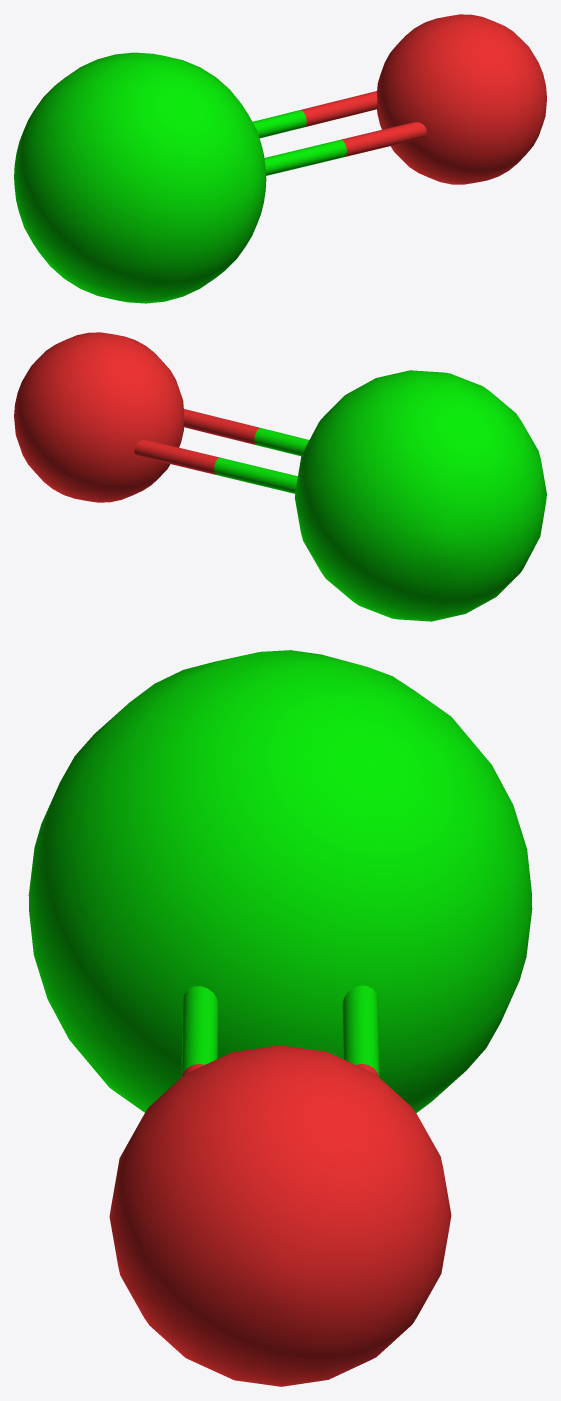
The model's file is CaO.fbx.
3 renders of one model, top to bottom at view 1: azimuth 30°, elevation 25°; view 2: azimuth 150°, elevation 25°; view 3: azimuth 270°, elevation 25°, orthographic. The views are drawn at different scales.
Visible parts, largest first — view 1: CaO; view 2: CaO; view 3: CaO.
Boxes of the visible parts, left/top/right/bottom form: CaO: left=14, top=14, right=546, bottom=303; CaO: left=14, top=332, right=546, bottom=621; CaO: left=28, top=650, right=532, bottom=1386.
Size of the model in its own units: 6.3 by 2.73 by 2.72.
